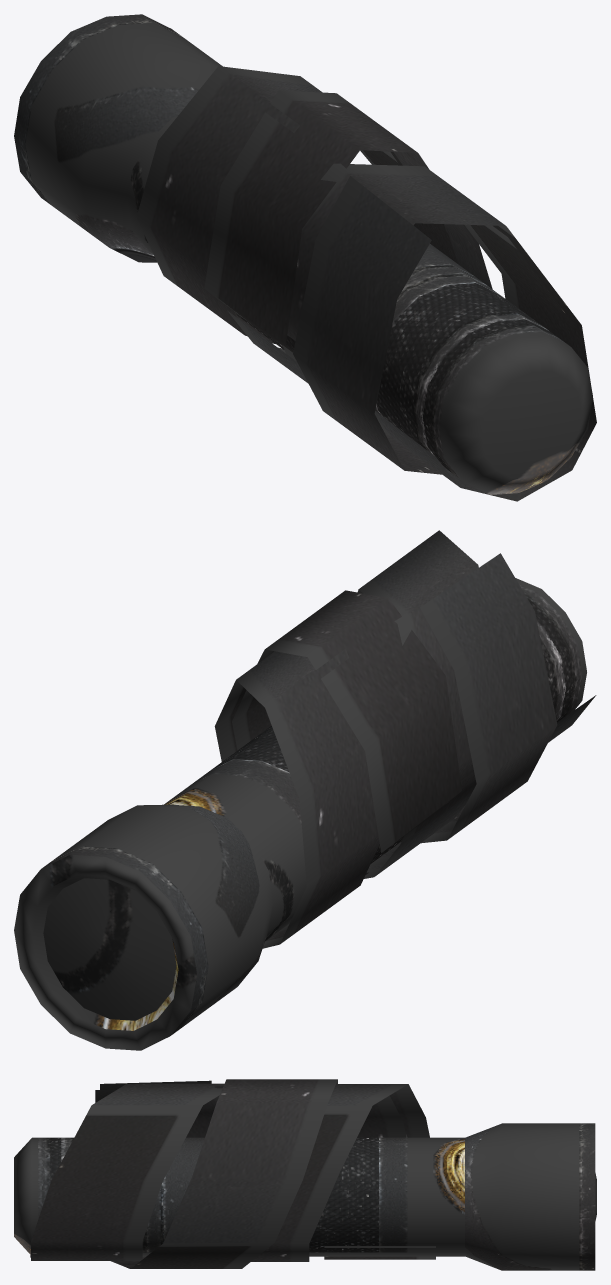
File: TapedFlashlight.fbx
The picture shows the model from 3 angles, top to bottom: view 1: azimuth 30°, elevation 25°; view 2: azimuth 150°, elevation 25°; view 3: azimuth 270°, elevation 25°; orthographic projection. The views are drawn at different scales.
Visible parts, largest first — view 1: Flashlight_LP.001; view 2: Flashlight_LP.001; view 3: Flashlight_LP.001.
Part boxes in pixels (x1,y1,x2,y2): Flashlight_LP.001: (14, 14, 596, 501); Flashlight_LP.001: (14, 530, 596, 1050); Flashlight_LP.001: (14, 1079, 596, 1270).
Size of the model in its own units: 0.0277 by 0.1097 by 0.0371.
